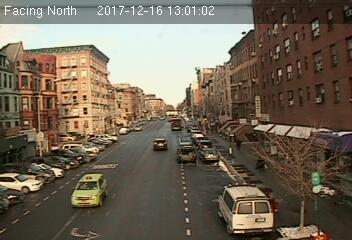car: (70, 172, 106, 205), (177, 145, 197, 165), (200, 146, 221, 164), (152, 136, 168, 151)
police: (219, 180, 273, 235)
ups: (169, 118, 183, 132)
